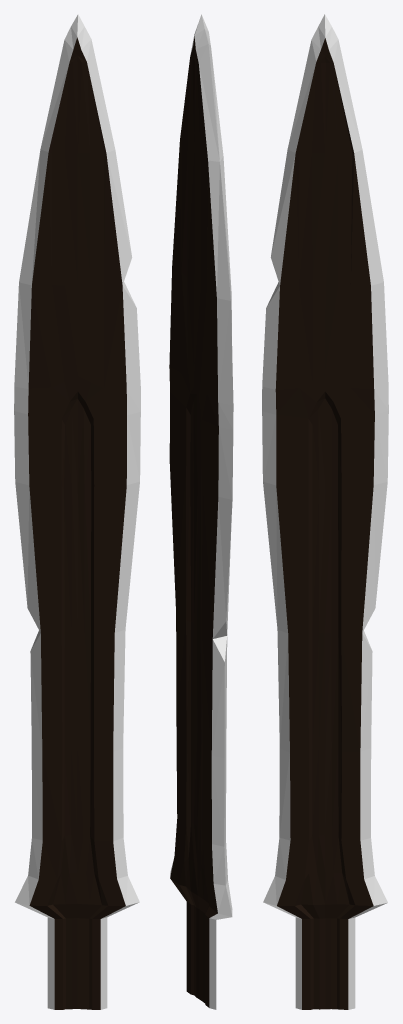
The model's file is SFFA_Blade_Iron_004.fbx.
The picture shows the model from 3 angles, left to right: view 1: azimuth 90°, elevation 25°; view 2: azimuth 210°, elevation 25°; view 3: azimuth 270°, elevation 25°; orthographic projection.
Parts seen in each view (by area): view 1: SFFA_Blade_Iron_004; view 2: SFFA_Blade_Iron_004; view 3: SFFA_Blade_Iron_004.
Boxes of the visible parts, x1,y1,x2,y2 form: SFFA_Blade_Iron_004: (14, 14, 140, 1009); SFFA_Blade_Iron_004: (169, 14, 233, 1009); SFFA_Blade_Iron_004: (262, 14, 388, 1009).
Bounding box in the file's own units: 1.42 × 85.91 × 9.92.
